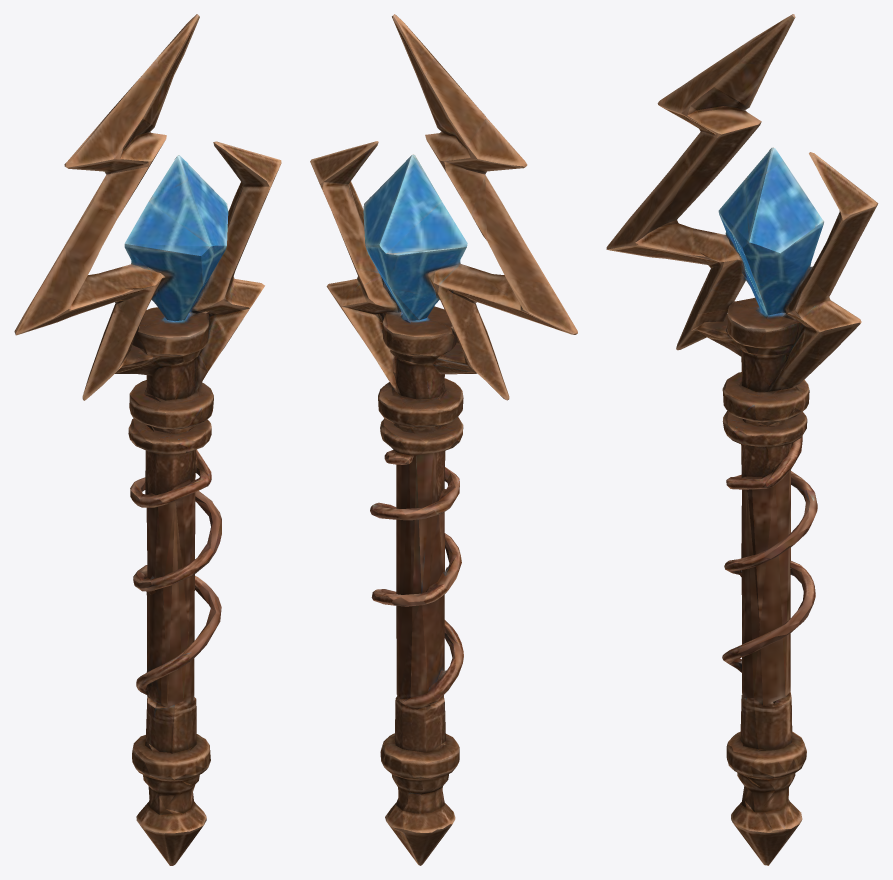
File: lightning_rod_staff.glb
3 renders of one model, left to right at view 1: azimuth 30°, elevation 25°; view 2: azimuth 150°, elevation 25°; view 3: azimuth 330°, elevation 25°, orthographic.
Size of the model in its own units: 0.7092 by 2.15 by 0.2605.
Materials: 1 (1 with a texture image).
